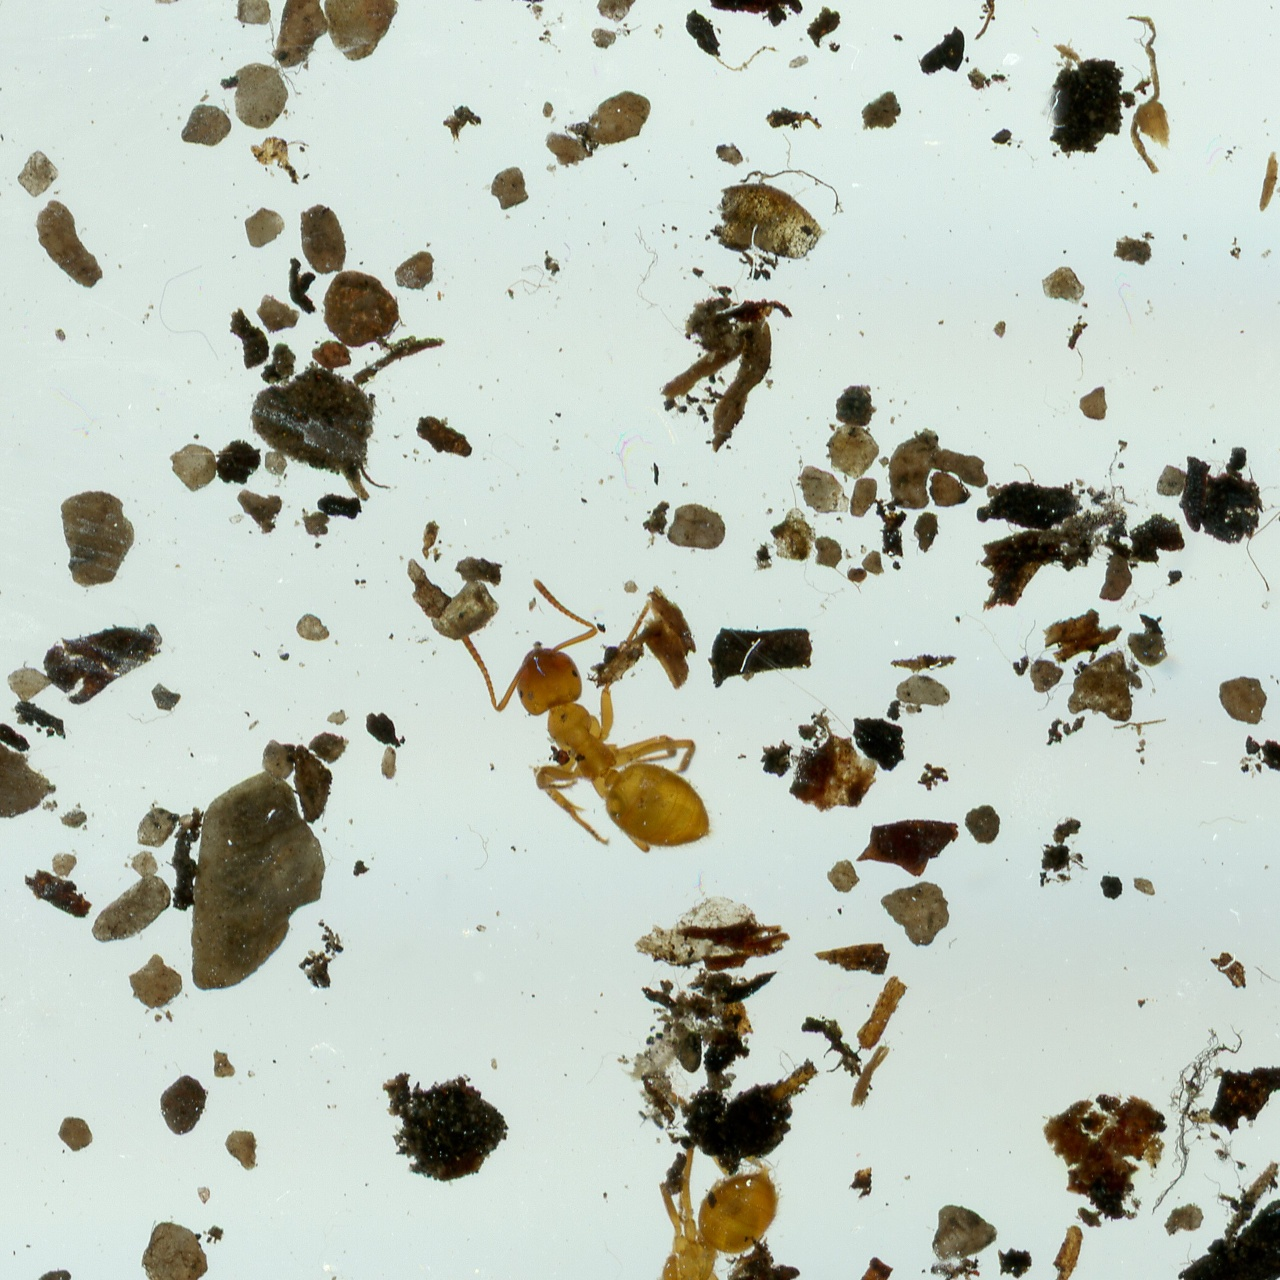arthropod: (436, 526, 783, 910), (591, 1083, 788, 1280)
